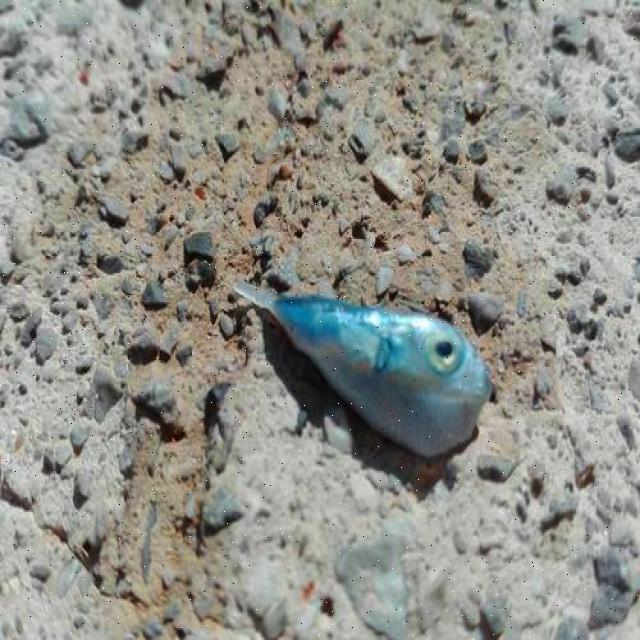Balik: (236, 284, 491, 457)
